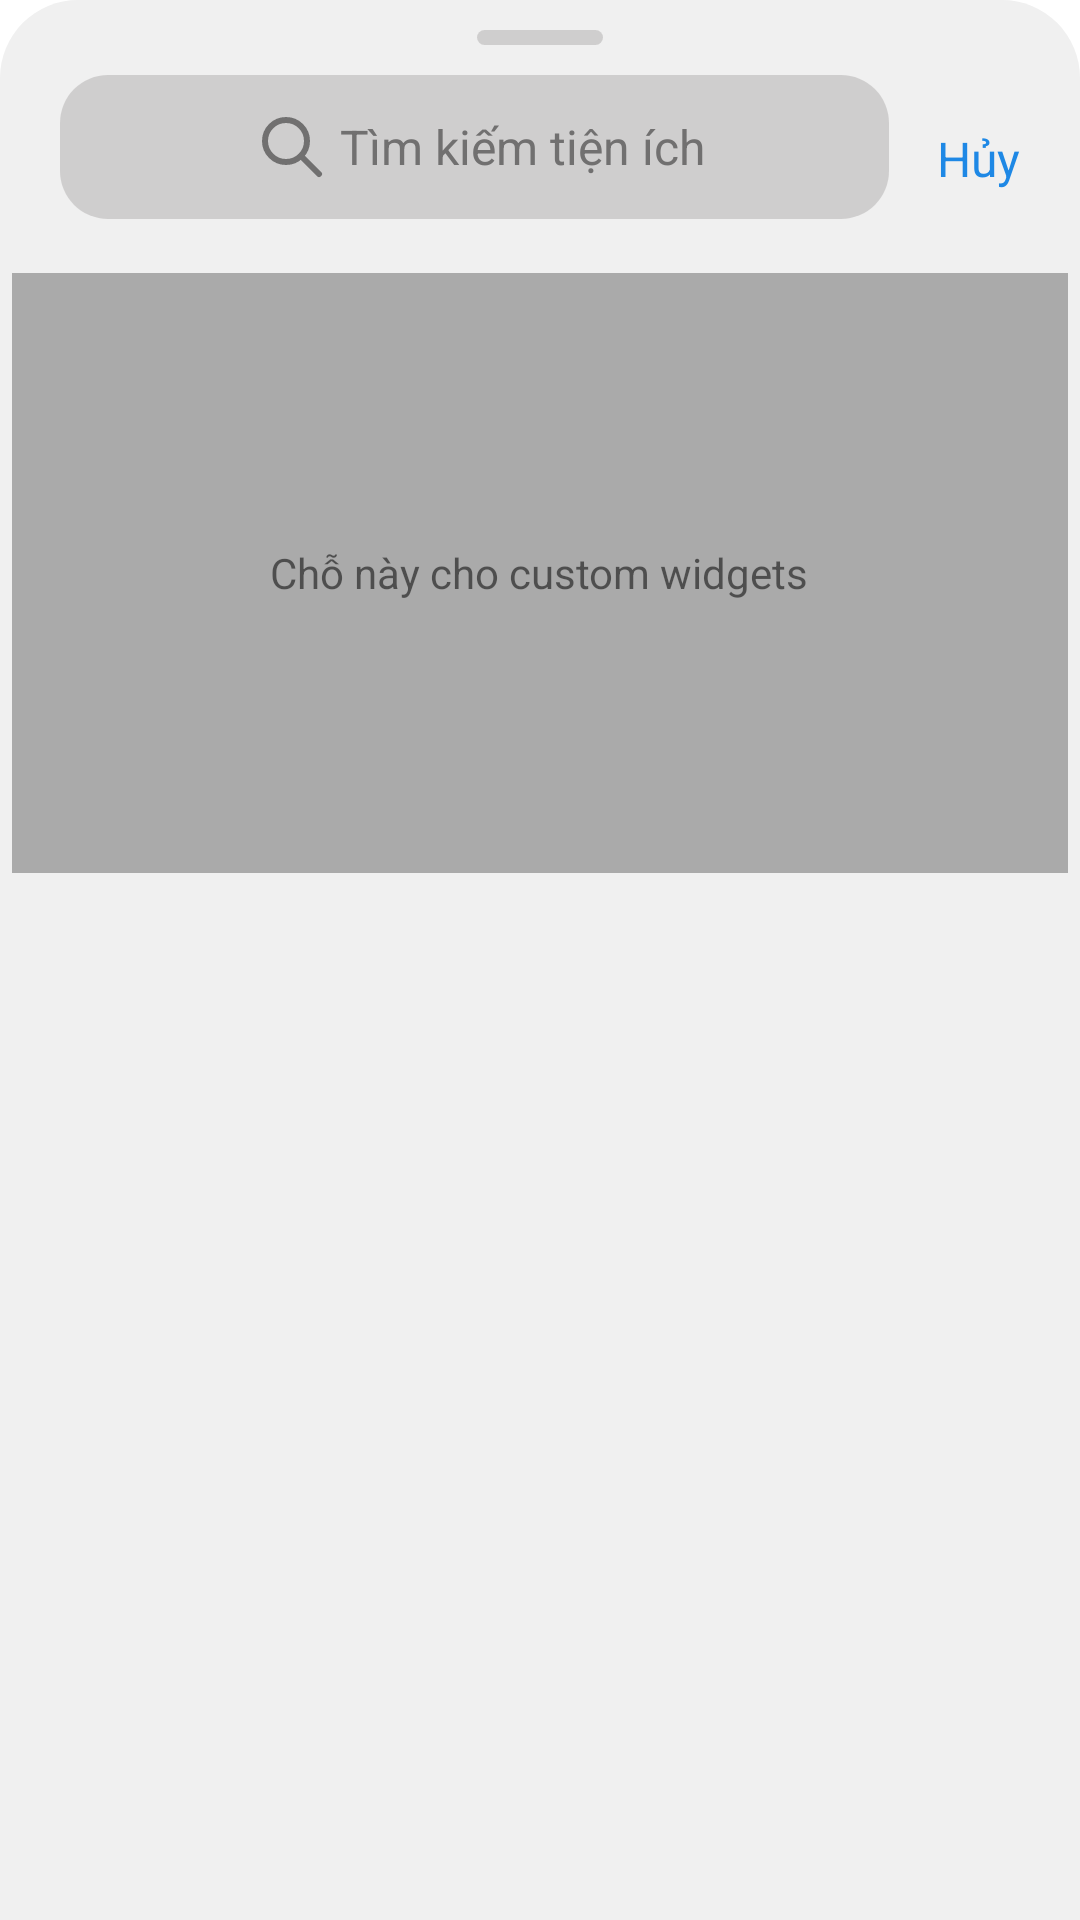

Screen size 1080×1920. Icon name, then its box in pixels as (x1, y1, x2, y2):
search: (262, 117, 322, 177)
